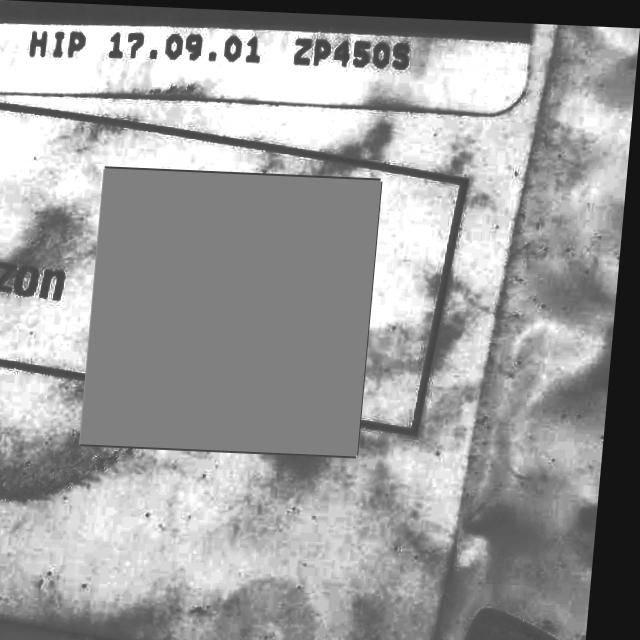qr_code: (87, 167, 385, 453)
